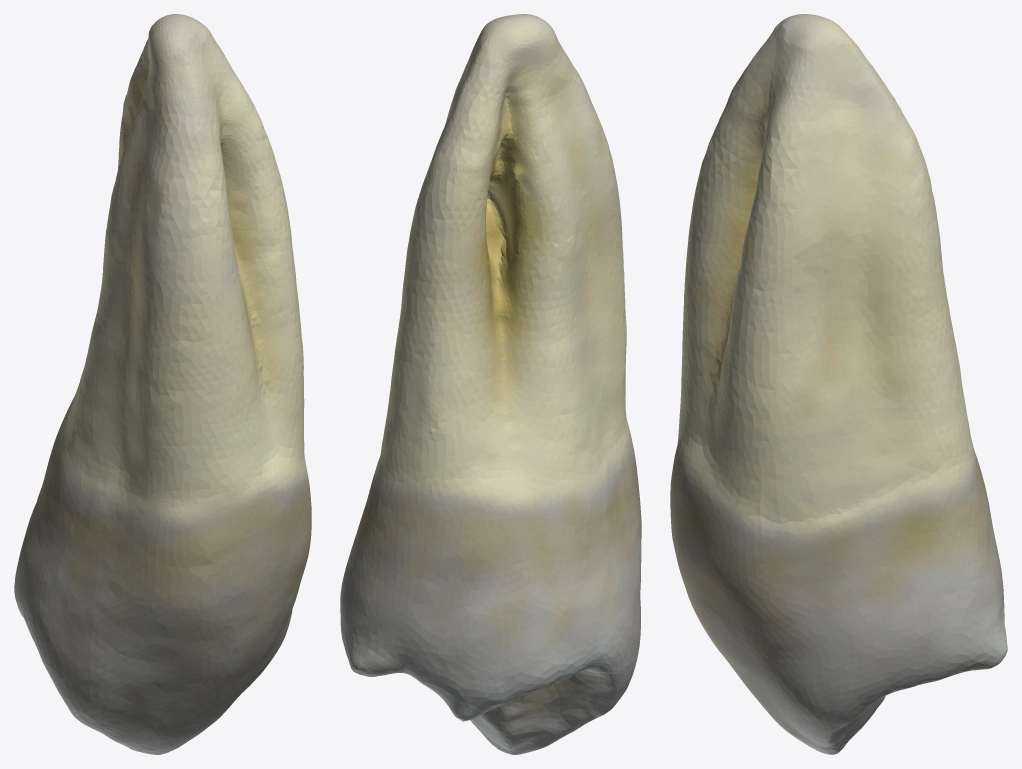
File: 45 quiz.glb
3 views of the same model, side by side, from view 1: azimuth 30°, elevation 25°; view 2: azimuth 150°, elevation 25°; view 3: azimuth 270°, elevation 25° (orthographic).
Parts seen in each view (by area): view 1: 3MFMeshParent_1; view 2: 3MFMeshParent_1; view 3: 3MFMeshParent_1.
Boxes of the visible parts, bbox=[...] form: 3MFMeshParent_1: bbox=[14, 14, 311, 754]; 3MFMeshParent_1: bbox=[340, 14, 641, 754]; 3MFMeshParent_1: bbox=[670, 14, 1007, 754].
Bounding box in the file's own units: 0.1801 × 0.512 × 0.212.
Materials: 1 (1 with a texture image).
